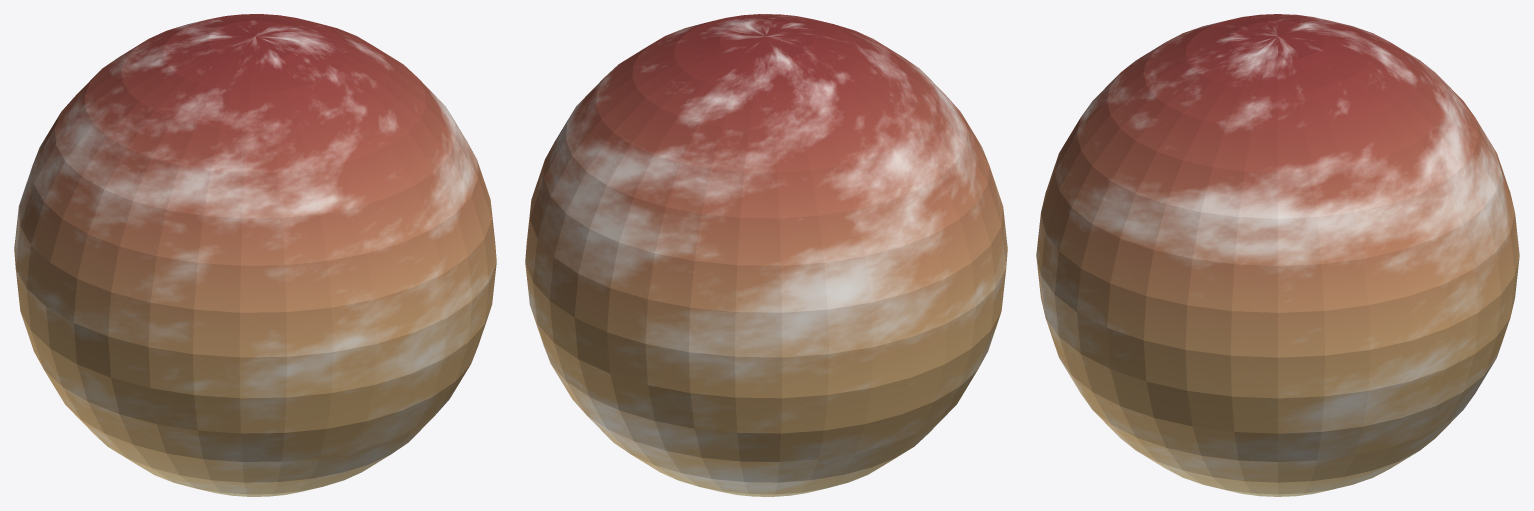
The model's file is stage08.glb.
The picture shows the model from 3 angles, left to right: view 1: azimuth 30°, elevation 25°; view 2: azimuth 150°, elevation 25°; view 3: azimuth 270°, elevation 25°; orthographic projection.
Parts seen in each view (by area): view 1: Sphere; view 2: Sphere; view 3: Sphere.
Part boxes in pixels (x1,y1,x2,y2): Sphere: (14,14,496,496); Sphere: (525,14,1007,496); Sphere: (1036,14,1519,496).
Size of the model in its own units: 500 by 500 by 500.
5 materials, 3 textured.
